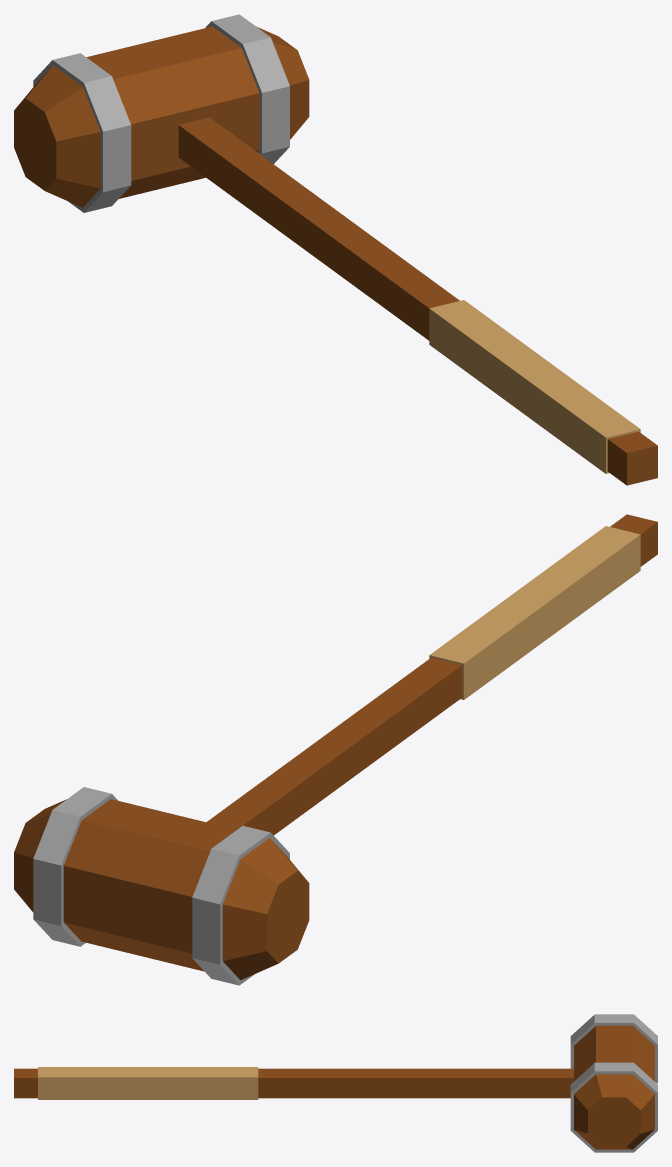
The model's file is Otsuchi - Textured Low Poly Asian Weapon Pack by Kickin It Studios.fbx.
The picture shows the model from 3 angles, top to bottom: view 1: azimuth 30°, elevation 25°; view 2: azimuth 150°, elevation 25°; view 3: azimuth 270°, elevation 25°; orthographic projection. The views are drawn at different scales.
Visible parts, largest first — view 1: Otsuchi; view 2: Otsuchi; view 3: Otsuchi.
Boxes of the visible parts, bbox=[...] form: Otsuchi: bbox=[14, 14, 657, 485]; Otsuchi: bbox=[14, 514, 657, 985]; Otsuchi: bbox=[14, 1014, 657, 1152].
Size of the model in its own units: 233 by 114 by 822.
